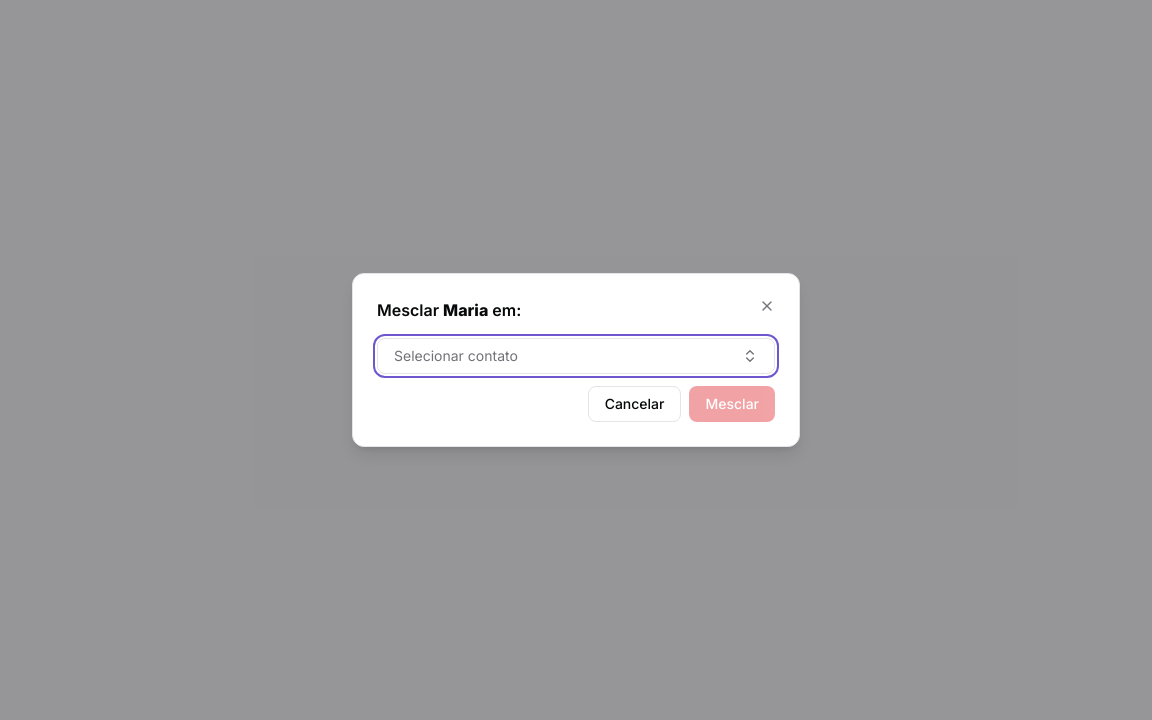
it: MergeContactDialog › lists other contacts as 'name (company)' or just the name, and disables Mesclar until chosen
Expected: the button "Mesclar" is disabled, left=690, top=386, right=775, bottom=422
Click the dropdown named "Contato que fica". click: (456, 356)
box: left=377, top=338, right=775, bottom=374
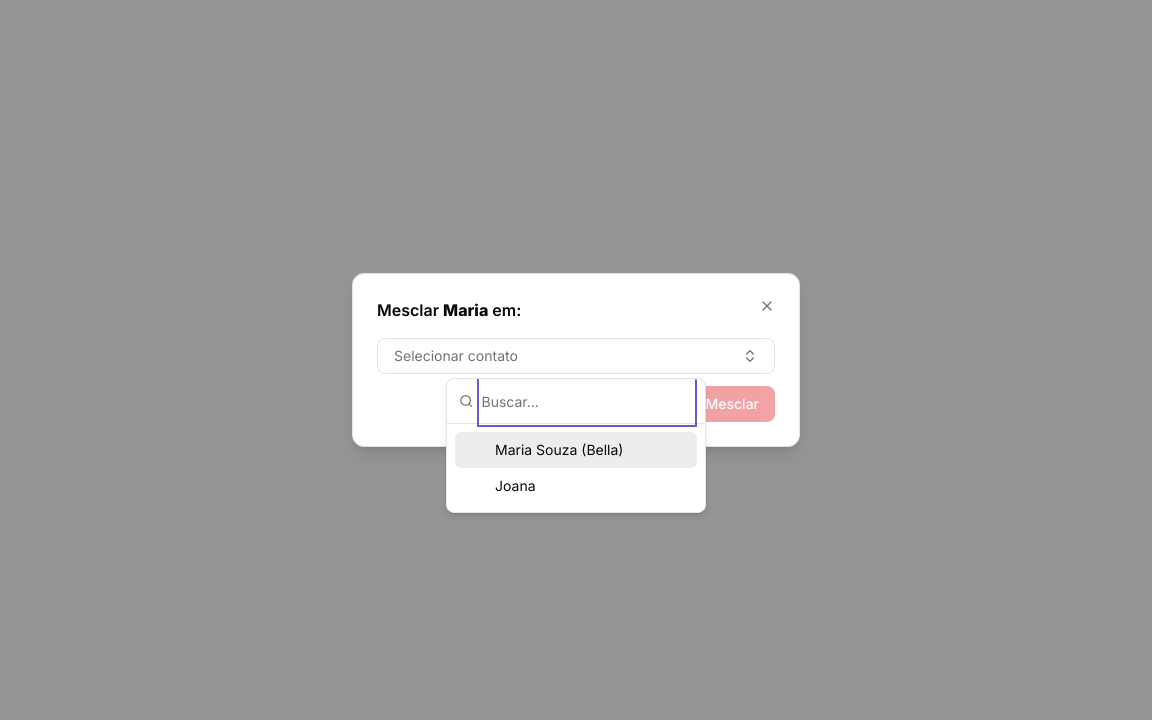
Expected: the options read "Maria Souza (Bella)", "Joana", in this order, left=455, top=432, right=697, bottom=468; left=495, top=477, right=536, bottom=494
